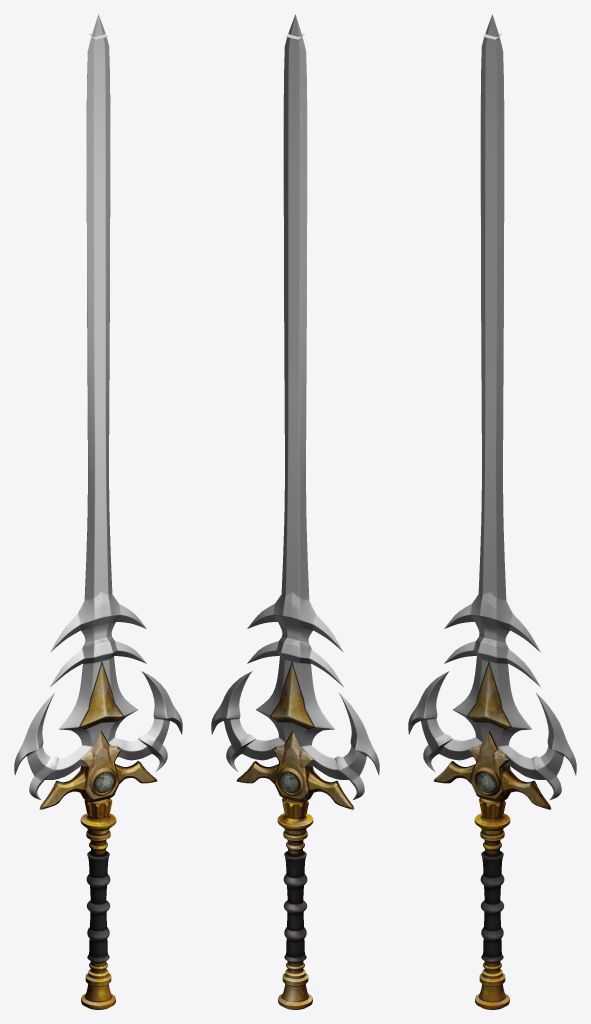
File: Sword.fbx
3 renders of one model, left to right at view 1: azimuth 30°, elevation 25°; view 2: azimuth 150°, elevation 25°; view 3: azimuth 330°, elevation 25°, orthographic.
Parts seen in each view (by area): view 1: LinhNamgHighPoly; view 2: LinhNamgHighPoly; view 3: LinhNamgHighPoly.
Boxes of the visible parts, x1,y1,x2,y2 form: LinhNamgHighPoly: (14,14,182,1009); LinhNamgHighPoly: (211,14,379,1009); LinhNamgHighPoly: (408,14,576,1009).
Size of what is drawn, in the model's own units: 2587 by 14540 by 474.
Materials: 1 (1 with a texture image).
